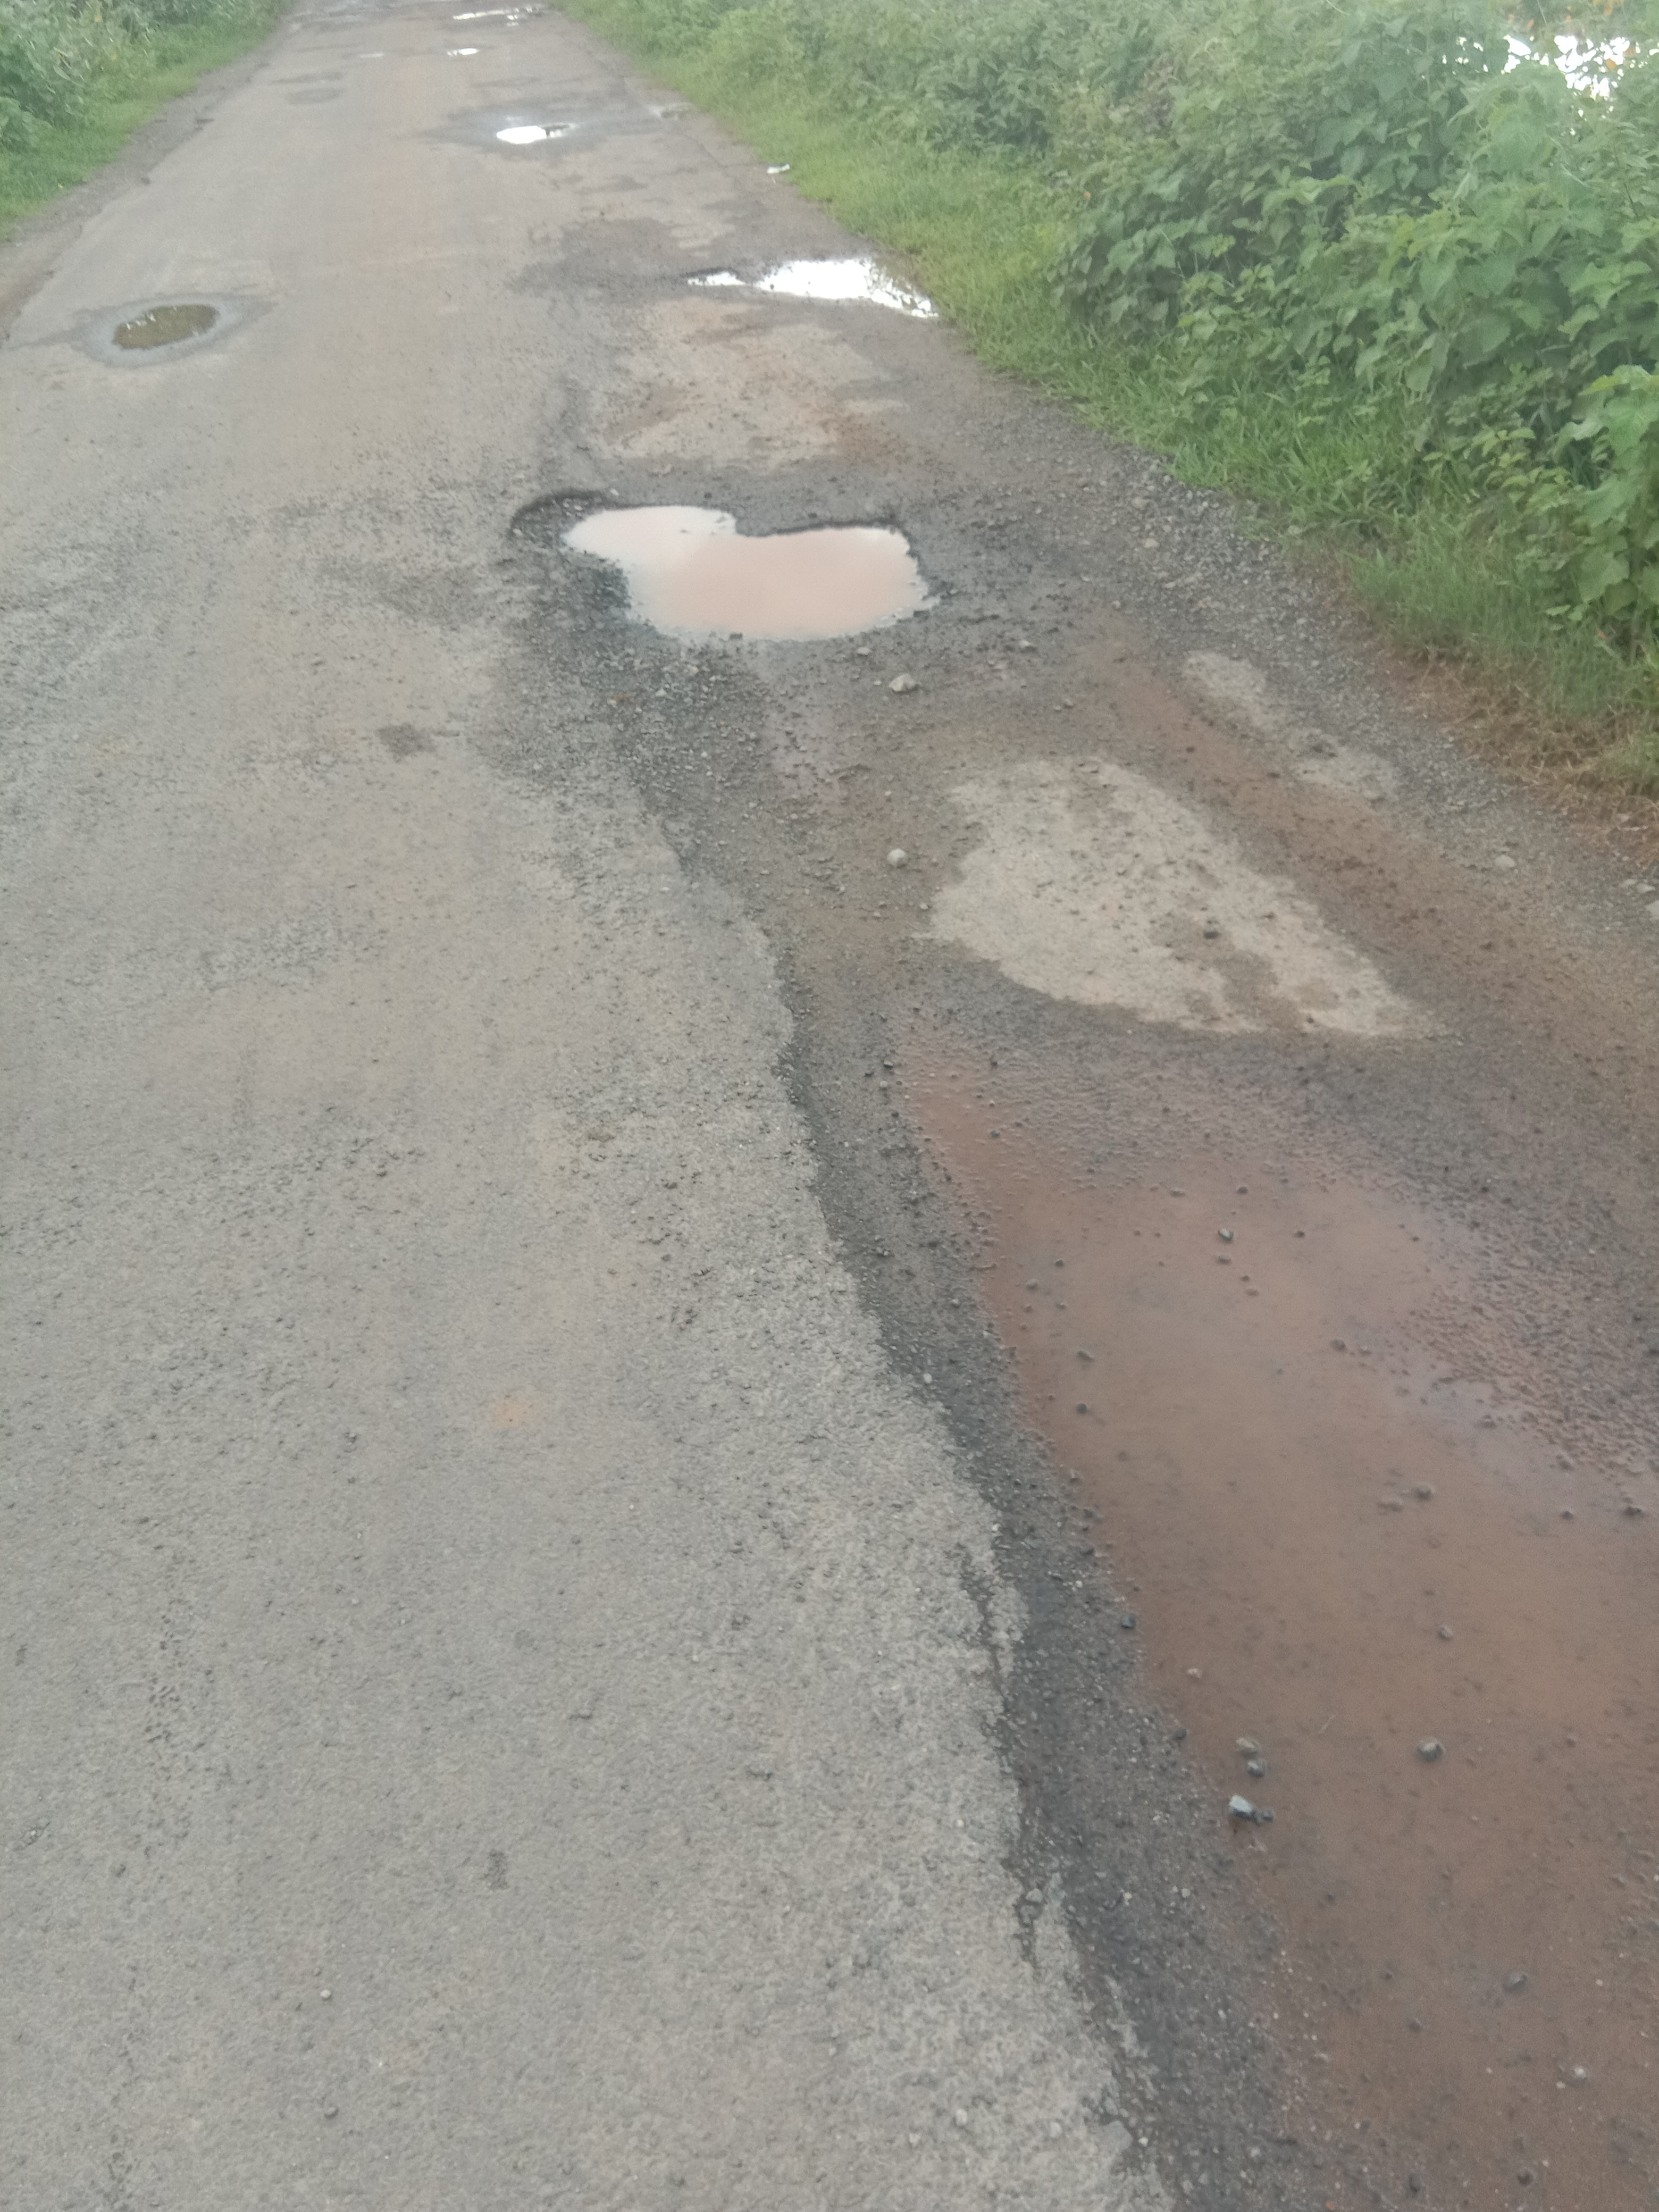potholes: (502, 486, 958, 678), (678, 240, 969, 333), (87, 301, 253, 380), (476, 110, 582, 171)
